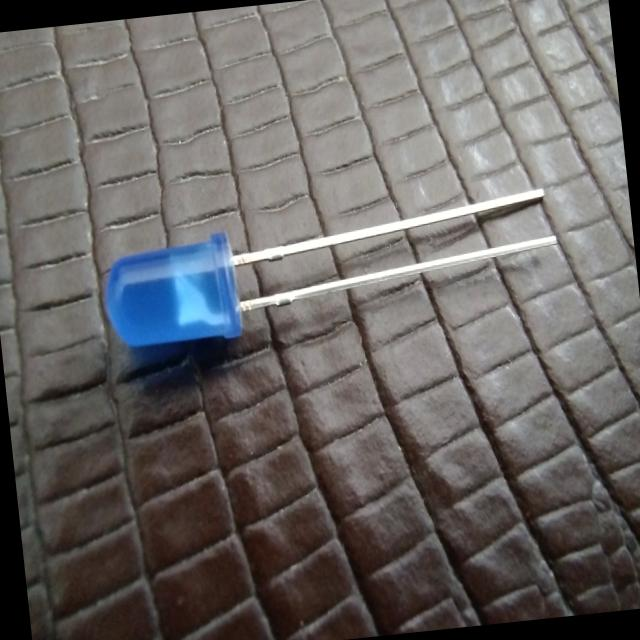blue_led: (97, 229, 244, 353)
